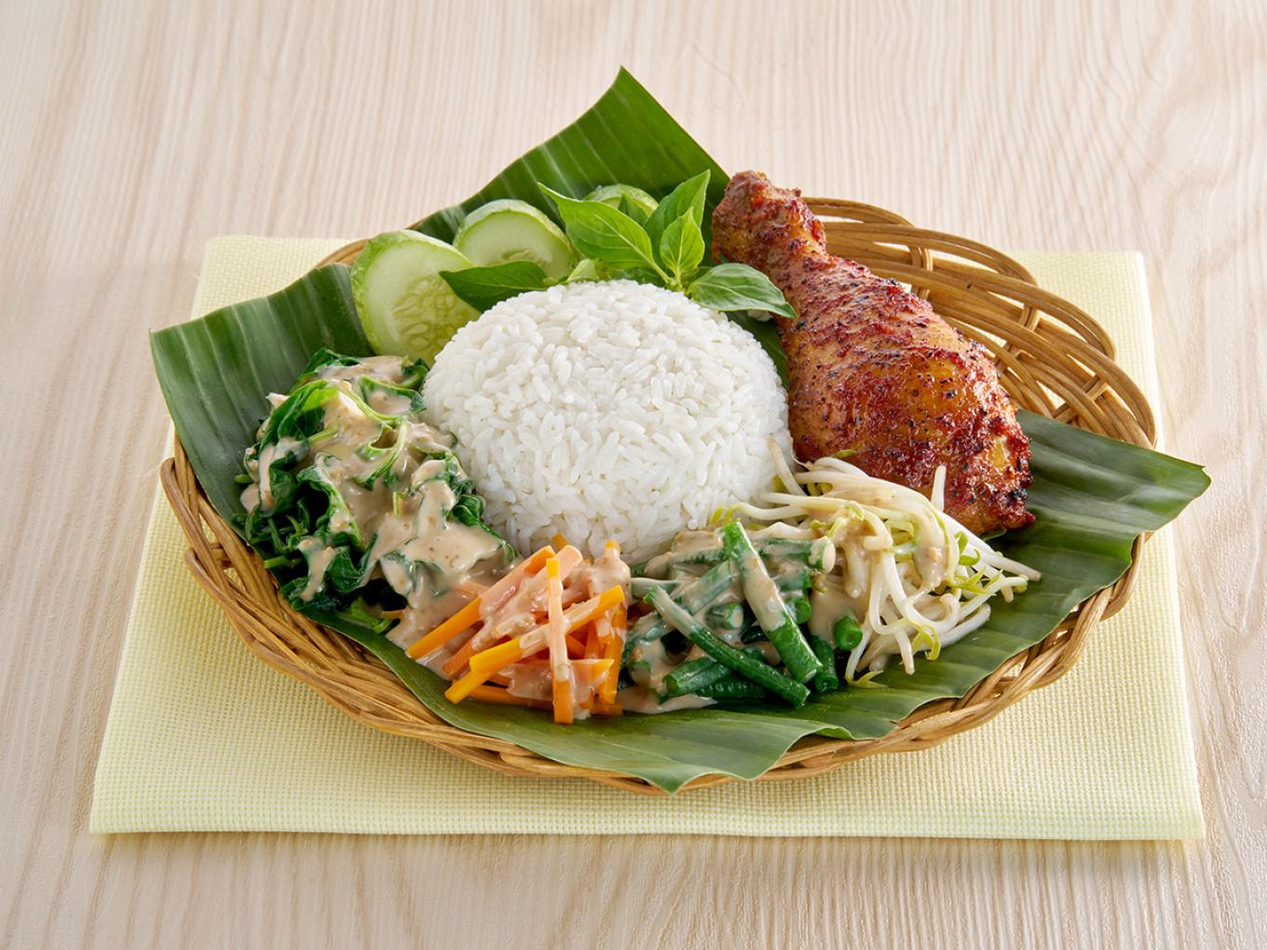buah_sayur_lainnya: (279, 390, 413, 522), (843, 489, 929, 609), (412, 239, 699, 273)
buah_sayur_vitA: (673, 545, 780, 689), (503, 566, 590, 695)
daging: (814, 307, 966, 442)
makanan_berpati: (472, 318, 725, 494)
